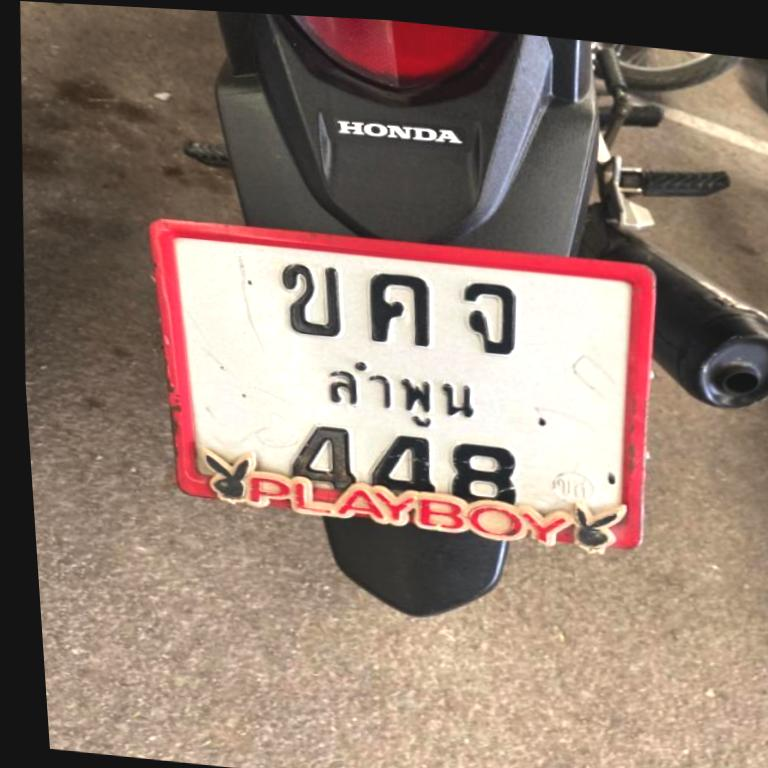license plate: (154, 225, 652, 545)
